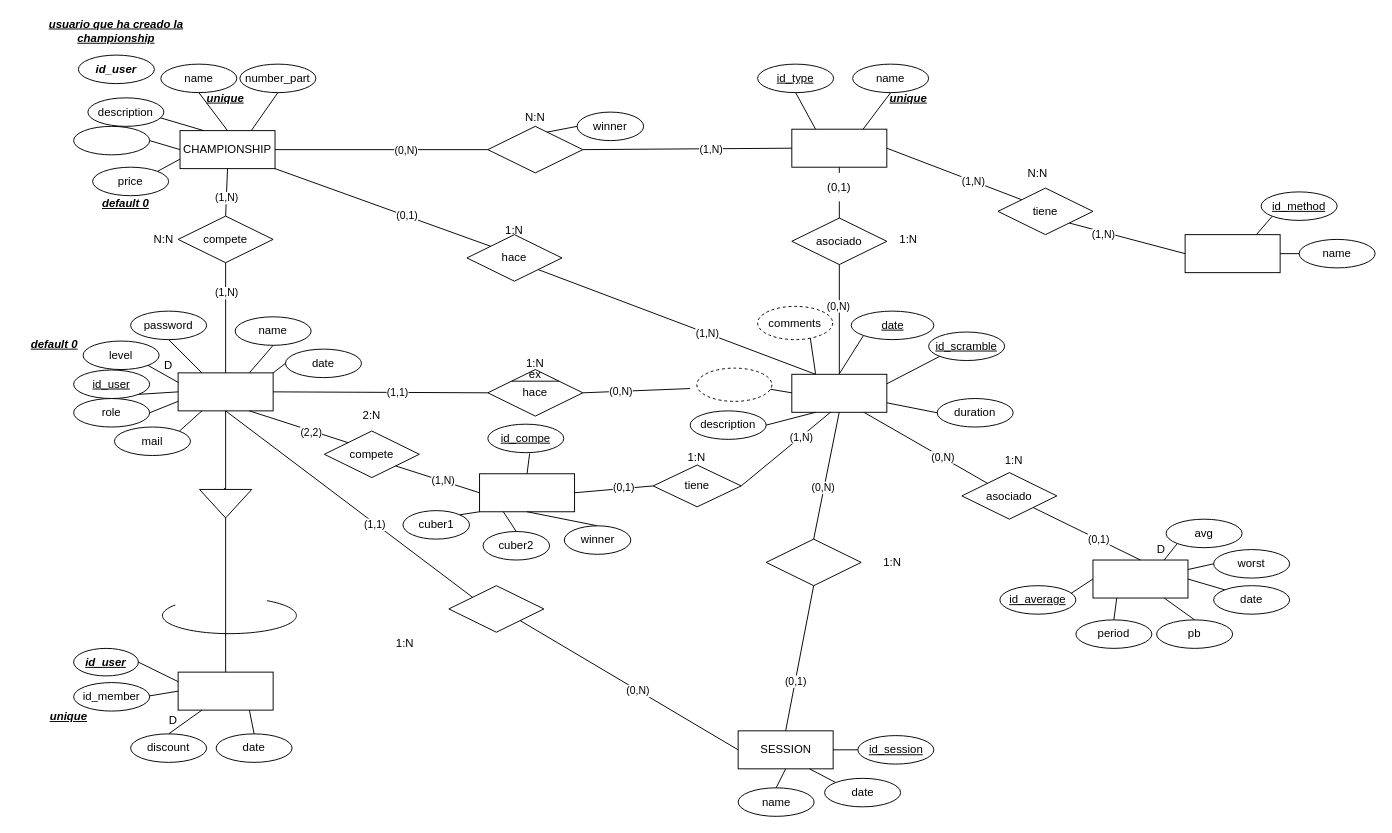
The diagram is 1392 pixels wide and 833 high, and some of its shapes have lost their labels. The shapes that lost their labels are listed below. From the top down, each one's box as (x1, y1, x2, y2) in pixels, then its label:
(73, 125, 150, 155): id_champ
(487, 125, 583, 173): pertenece
(791, 128, 887, 167): CUBE_TYPE
(1184, 234, 1280, 273): METHOD
(177, 372, 273, 411): USER
(696, 367, 772, 401): duration2
(791, 373, 887, 412): SCRAMBLE
(479, 473, 575, 512): COMPETITION
(765, 538, 861, 586): contiene
(1092, 559, 1188, 598): AVERAGE
(448, 585, 544, 632): crear
(177, 671, 273, 710): MEMBER
